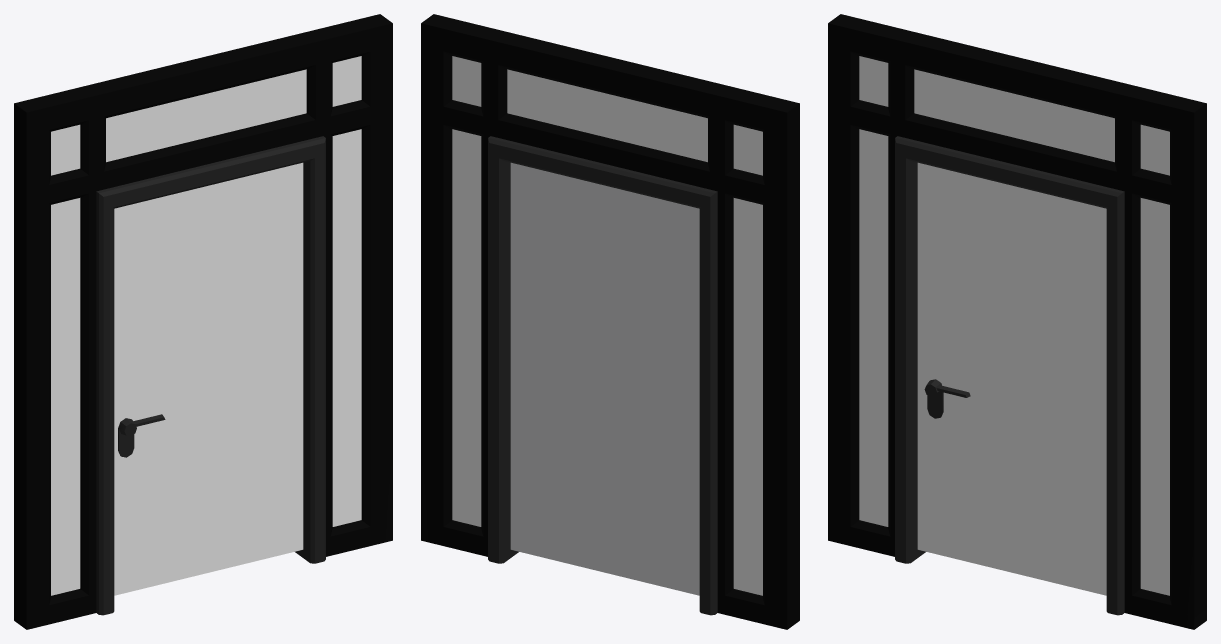
Rendered from WindowWallWithDoor.glb.
3 views of the same model, side by side, from view 1: azimuth 30°, elevation 25°; view 2: azimuth 150°, elevation 25°; view 3: azimuth 330°, elevation 25° (orthographic).
Parts seen in each view (by area): view 1: WindowDoorWall, WindowDoor; view 2: WindowDoorWall, WindowDoor; view 3: WindowDoorWall, WindowDoor.
Boxes of the visible parts, x1=… form: WindowDoorWall: x1=14, y1=14, x2=392, y2=629; WindowDoor: x1=114, y1=162, x2=303, y2=595; WindowDoorWall: x1=421, y1=14, x2=799, y2=629; WindowDoor: x1=510, y1=162, x2=699, y2=595; WindowDoorWall: x1=828, y1=14, x2=1206, y2=629; WindowDoor: x1=917, y1=162, x2=1106, y2=595.
Bounding box in the file's own units: 2 × 2.7 × 0.2.
2 materials, 1 textured.
